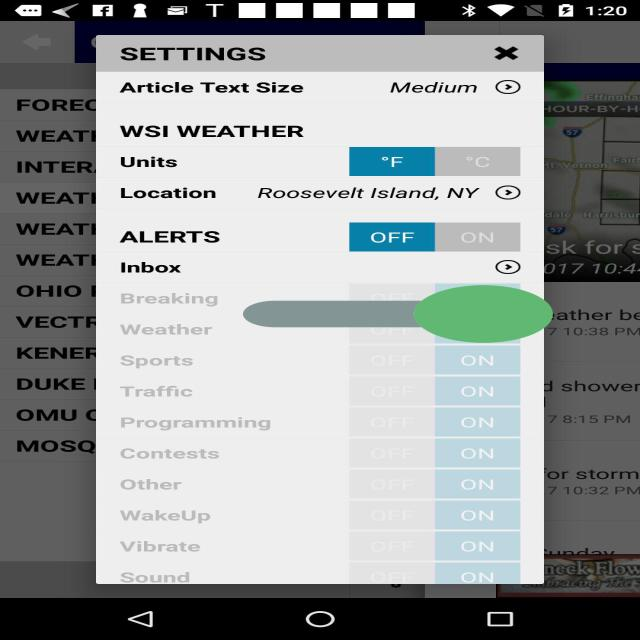social proof: (243, 250, 553, 378)
